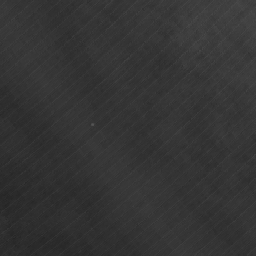Target: (88, 120, 96, 128)
